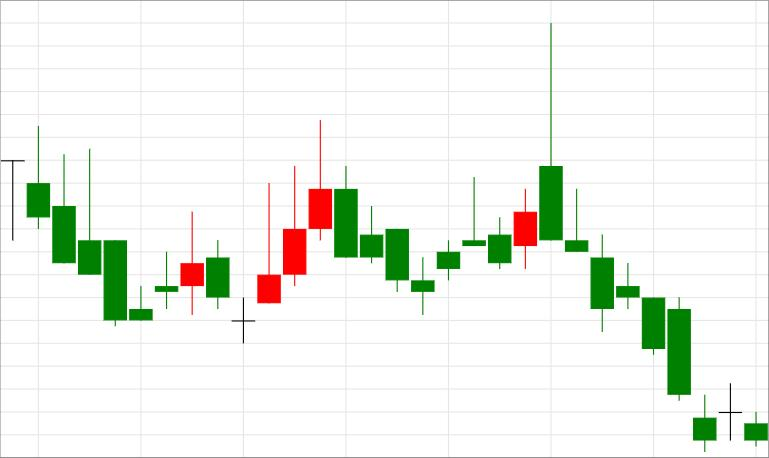shooting_star_fall: (232, 120, 332, 342)
